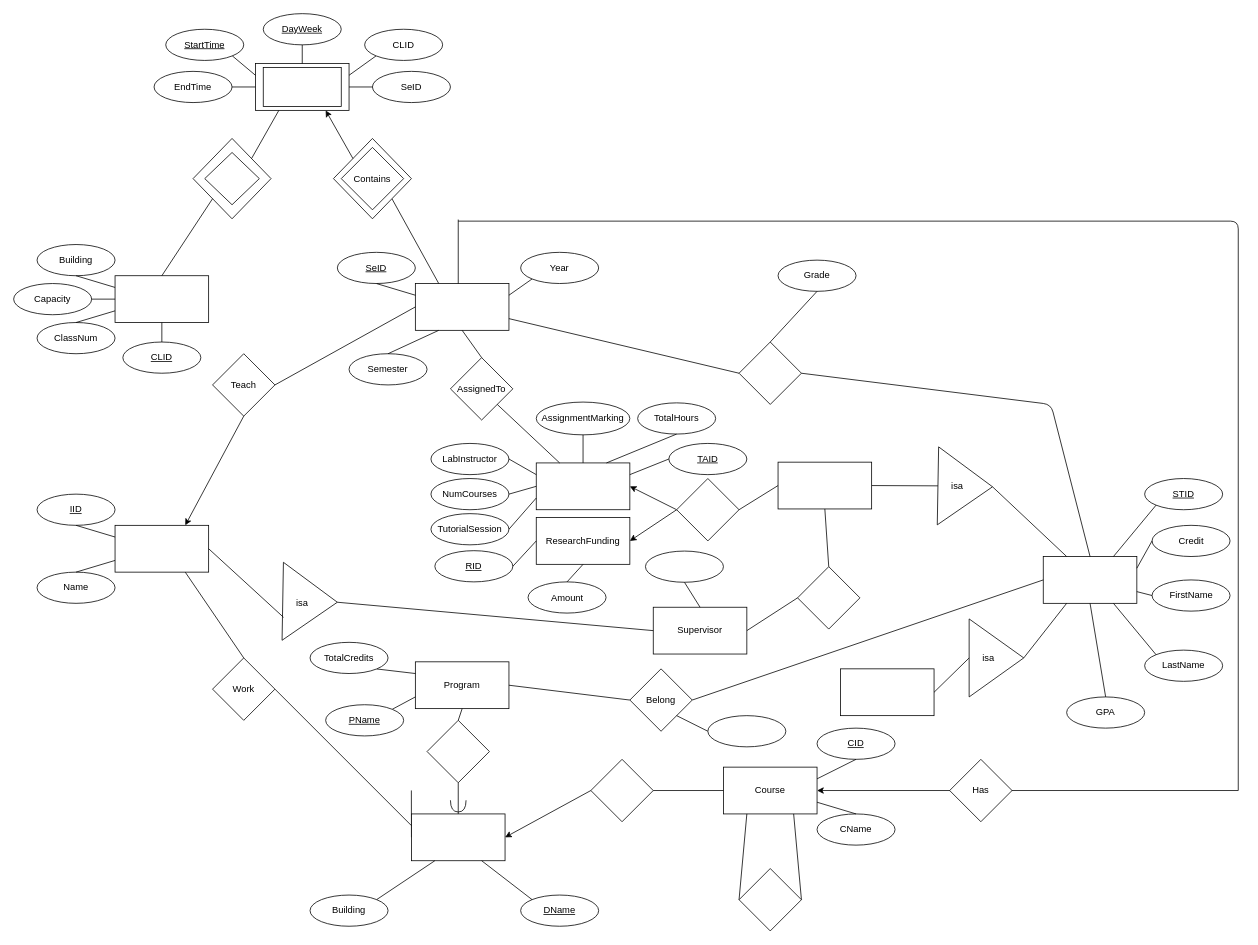
Some shapes in this 1258 by 945 pixel diagram are drawn without their labels. The shapes that lost their labels are listed below. From the top down, each one's centre as x and y in pixels, then its label:
At [301,86]: "Classtimeslot".
At [231,178]: "Schedule".
At [161,299]: "Class".
At [462,306]: "Section".
At [769,372]: "EnrolledIn".
At [582,486]: "TeachingAssistant".
At [824,485]: "Graduate".
At [707,509]: "Fund".
At [161,548]: "Instructor".
At [684,566]: "SupID".
At [828,597]: "Supervises".
At [1089,579]: "Student".
At [887,692]: "Undergraduate".
At [457,751]: "Under".
At [746,731]: "Advisor".
At [621,790]: "Within".
At [458,837]: "Department".
At [769,899]: "Prereq-Follow".
